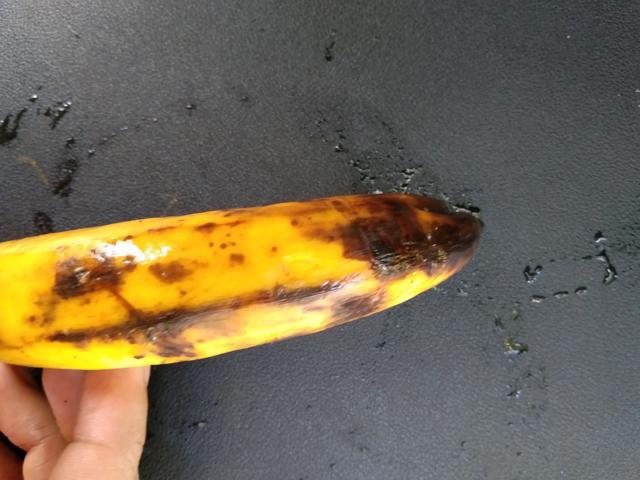rotten: (0, 175, 507, 391)
